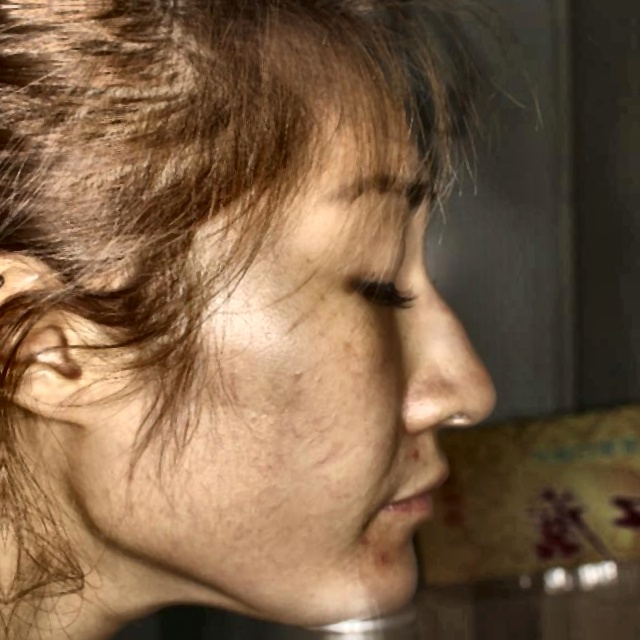comedone: (406, 439, 432, 472), (371, 539, 394, 576)
